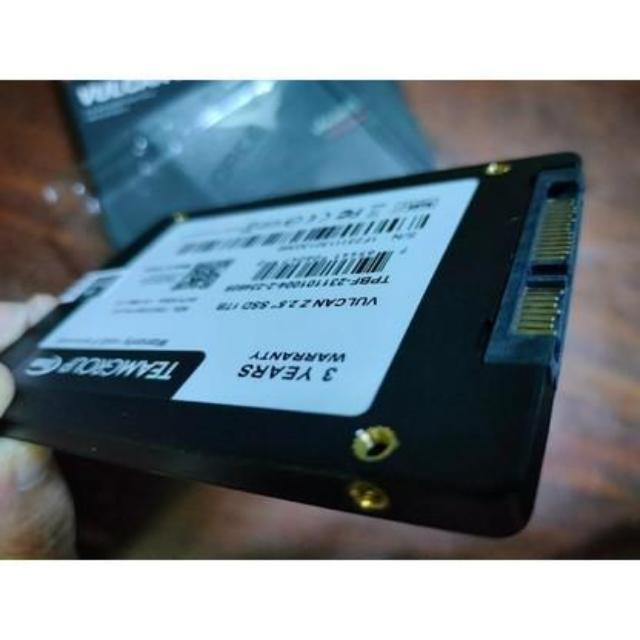DISK: (0, 147, 597, 541)
